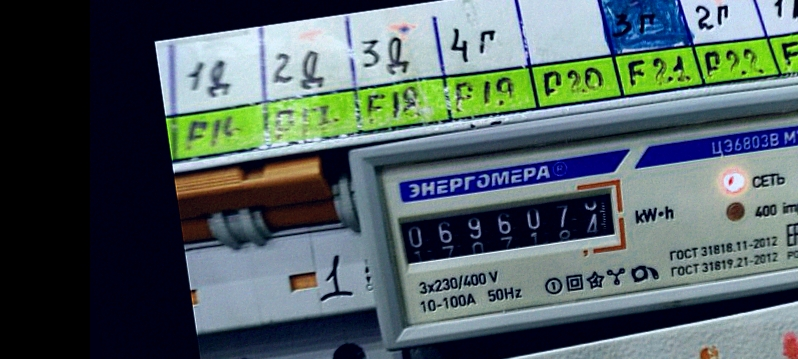0: (405, 223, 426, 249), (524, 204, 542, 231)
4: (582, 211, 602, 237)
6: (494, 209, 515, 235), (435, 218, 455, 245)
7: (554, 202, 572, 230)
9: (465, 214, 484, 240)
screen: (383, 172, 634, 279)
